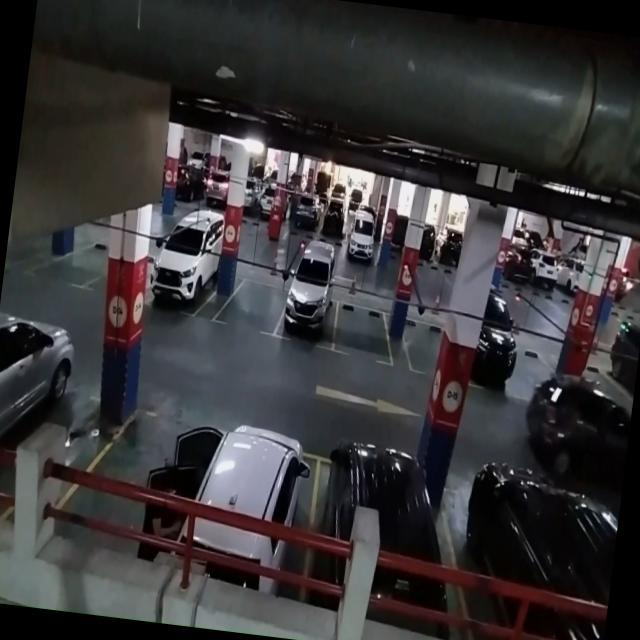empty: (329, 300, 396, 364), (216, 274, 282, 338), (398, 316, 444, 378)
occupied: (308, 439, 446, 556), (184, 419, 320, 529), (145, 224, 220, 320), (276, 270, 340, 348)
